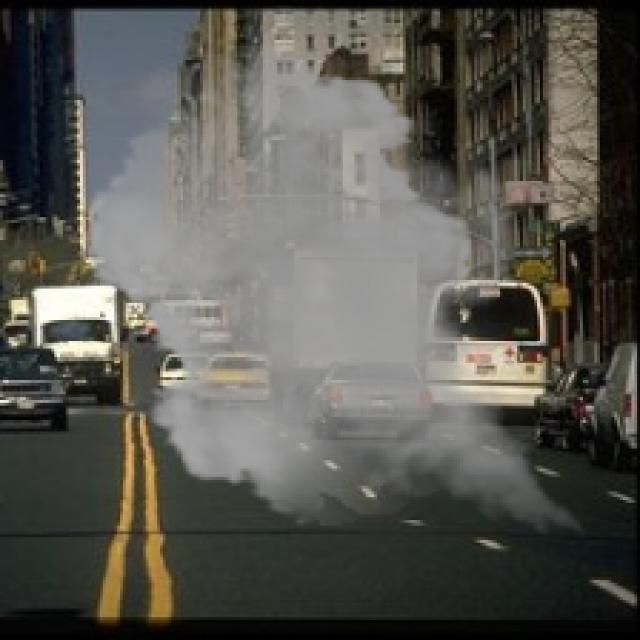smoke: (71, 17, 612, 546)
